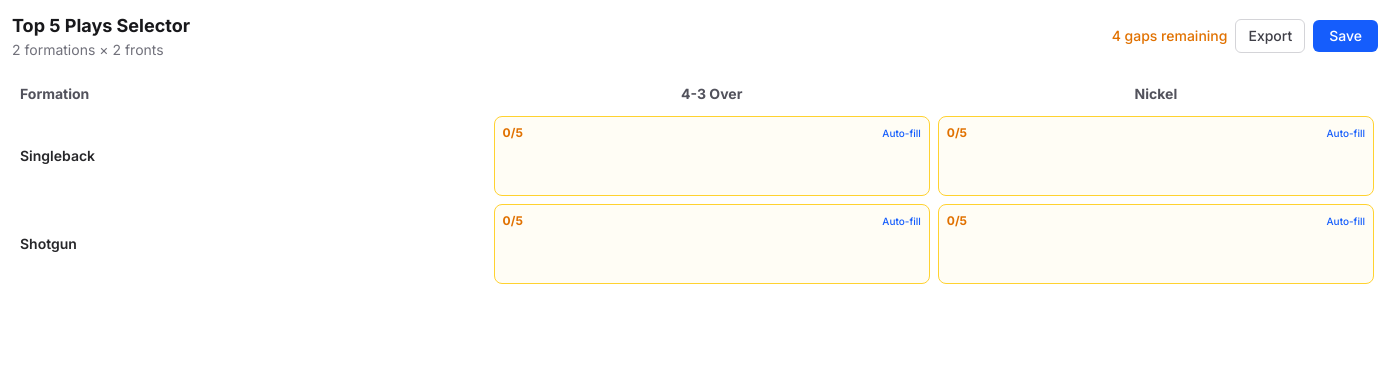
Test: TopPlaysSelector › removes a play from a cell with the remove button
# Auto-fill first
Click the button with test id "auto-fill-f1-fr1".
click(902, 133)  # box [882,126,921,140]
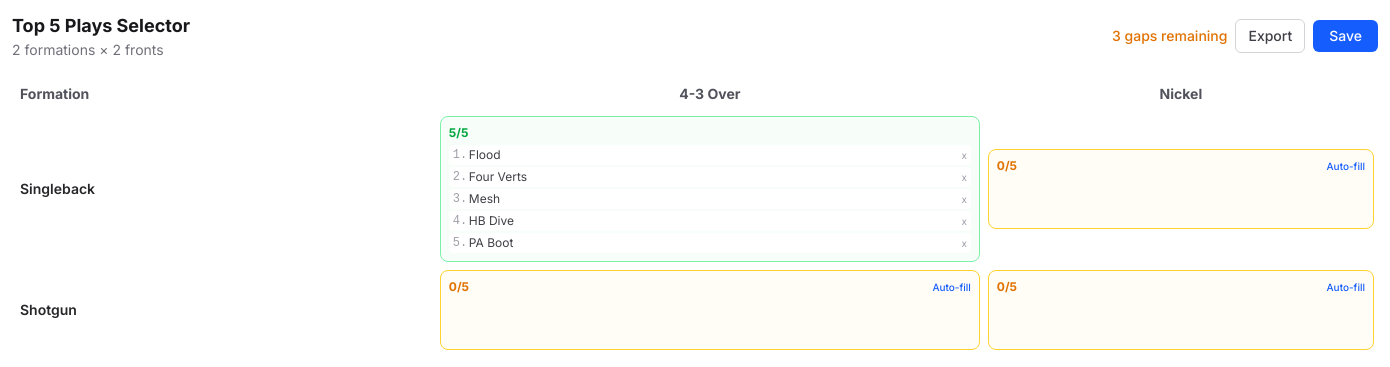
Result: the text with test id "cell-count-f1-fr1" reads "5/5" at [449,125,468,141]
# Remove first play
Click the button with test id "remove-play-f1::fr1-0".
click(964, 155)  # box [961,150,967,160]
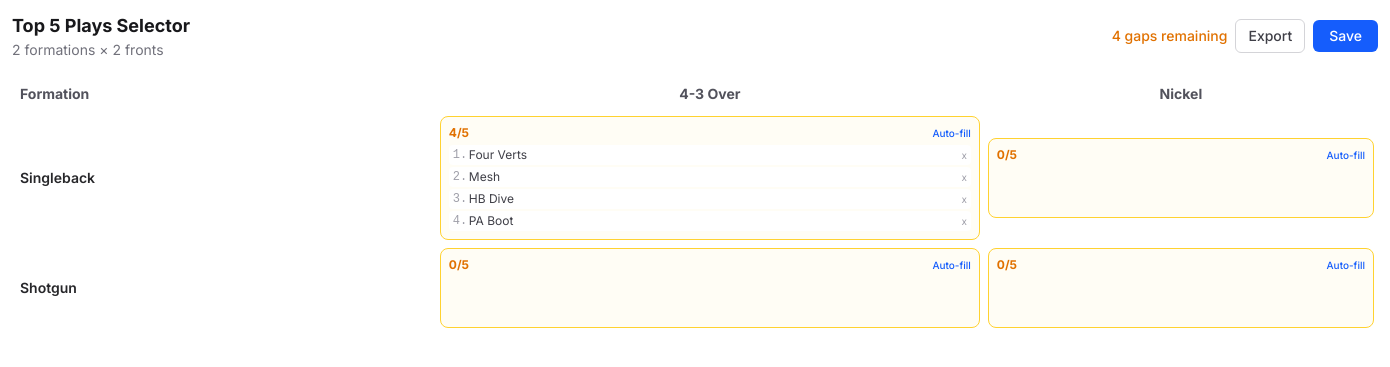
Result: the text with test id "cell-count-f1-fr1" reads "4/5" at [449,125,469,141]
